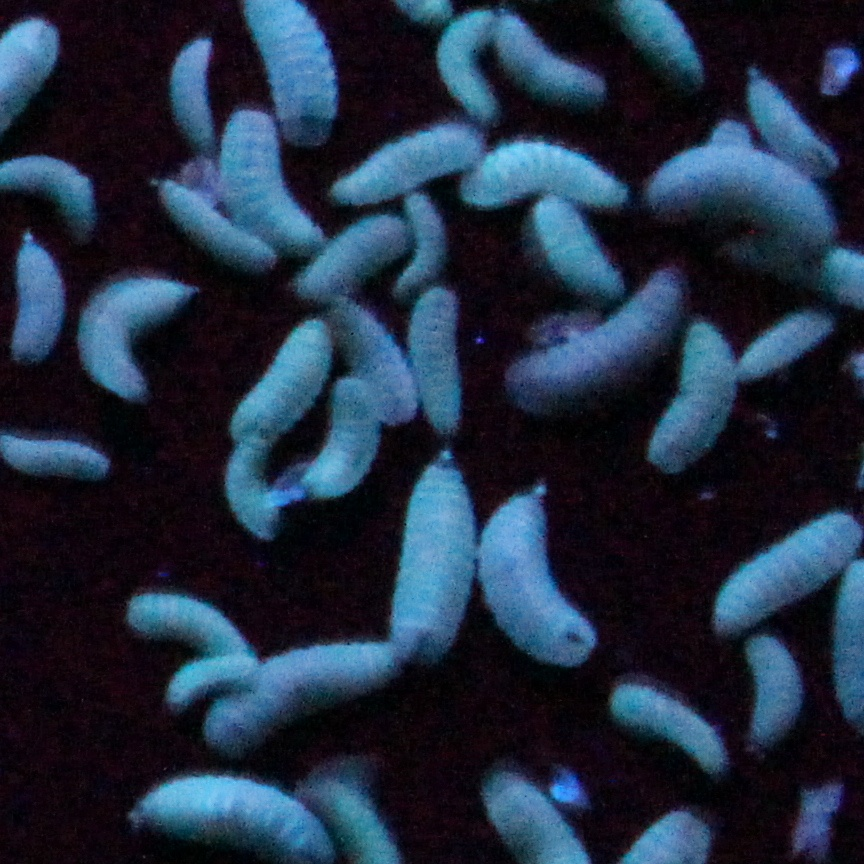larve: (645, 144, 829, 258), (211, 650, 407, 754), (505, 282, 676, 401), (486, 493, 604, 660), (392, 462, 472, 668), (211, 113, 325, 254), (719, 519, 858, 631), (339, 113, 488, 205), (78, 283, 198, 395), (643, 327, 733, 474), (231, 321, 337, 442), (148, 776, 326, 848), (304, 376, 390, 503), (485, 11, 604, 101), (525, 191, 629, 291), (111, 593, 249, 664), (339, 307, 423, 421), (460, 144, 633, 199), (737, 62, 825, 168), (156, 191, 274, 270), (305, 223, 421, 297), (610, 692, 725, 766), (7, 229, 64, 374), (413, 289, 468, 436), (433, 1, 497, 123), (156, 23, 217, 140), (221, 434, 282, 544), (396, 183, 453, 297), (741, 311, 831, 378), (756, 638, 807, 752), (0, 425, 115, 472), (164, 660, 256, 711)
